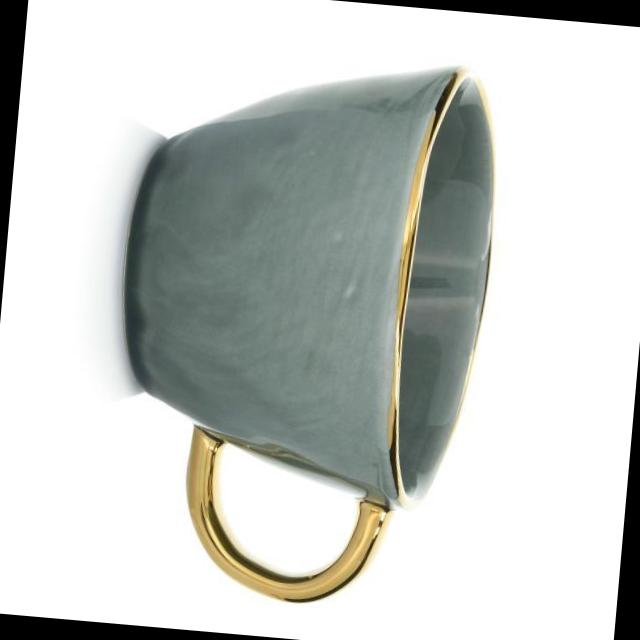Coffee Mug: (96, 38, 506, 622)
